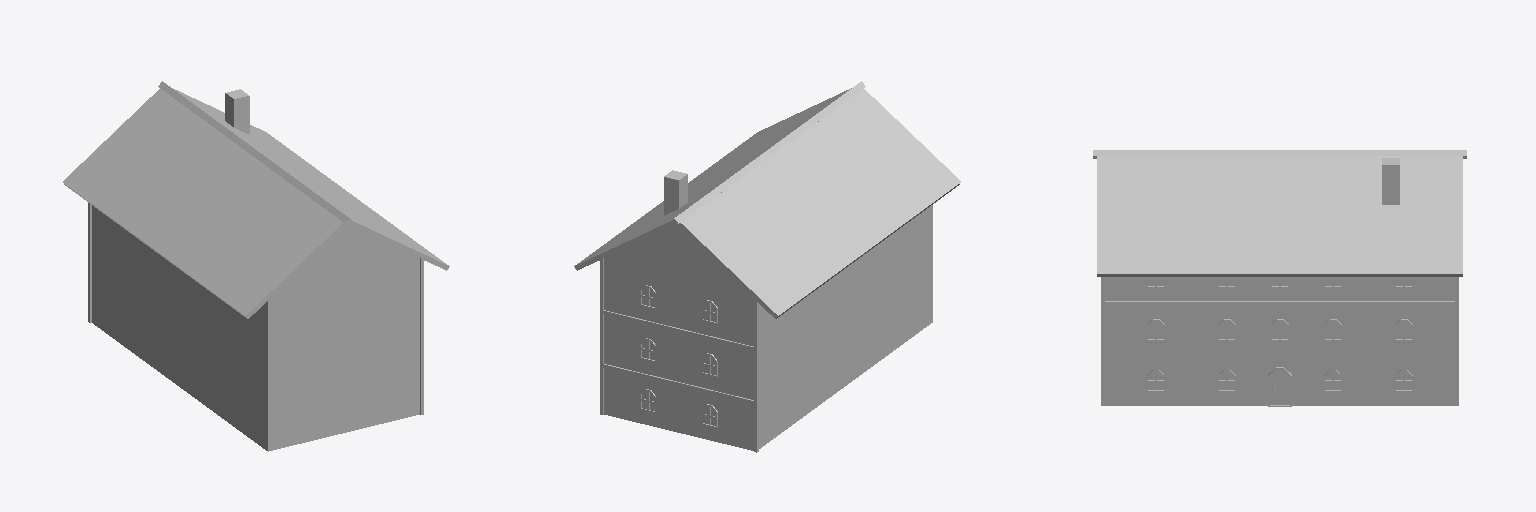
Rendered from townhall.obj.
3 views of the same model, side by side, from view 1: azimuth 30°, elevation 25°; view 2: azimuth 150°, elevation 25°; view 3: azimuth 270°, elevation 25° (orthographic).
Visible parts, largest first — view 1: Cube_Cube.001; view 2: Cube_Cube.001; view 3: Cube_Cube.001.
Part boxes in pixels (left/top/right/bottom): Cube_Cube.001: left=63, top=81, right=449, bottom=451; Cube_Cube.001: left=574, top=81, right=960, bottom=452; Cube_Cube.001: left=1093, top=150, right=1466, bottom=406.
Bounding box in the file's own units: 13.31 × 13.99 × 21.17.